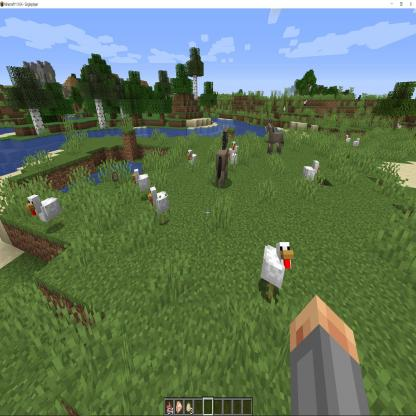minecraft-pigs: (180, 176, 233, 254)
